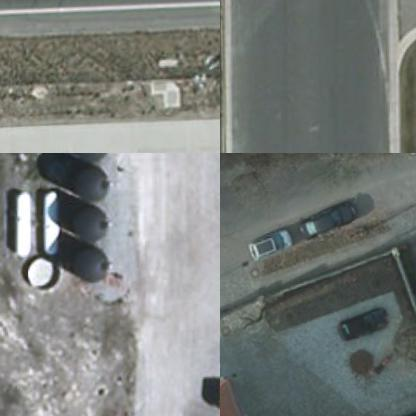car: (296, 201, 354, 239), (330, 306, 388, 342), (238, 230, 292, 266)
